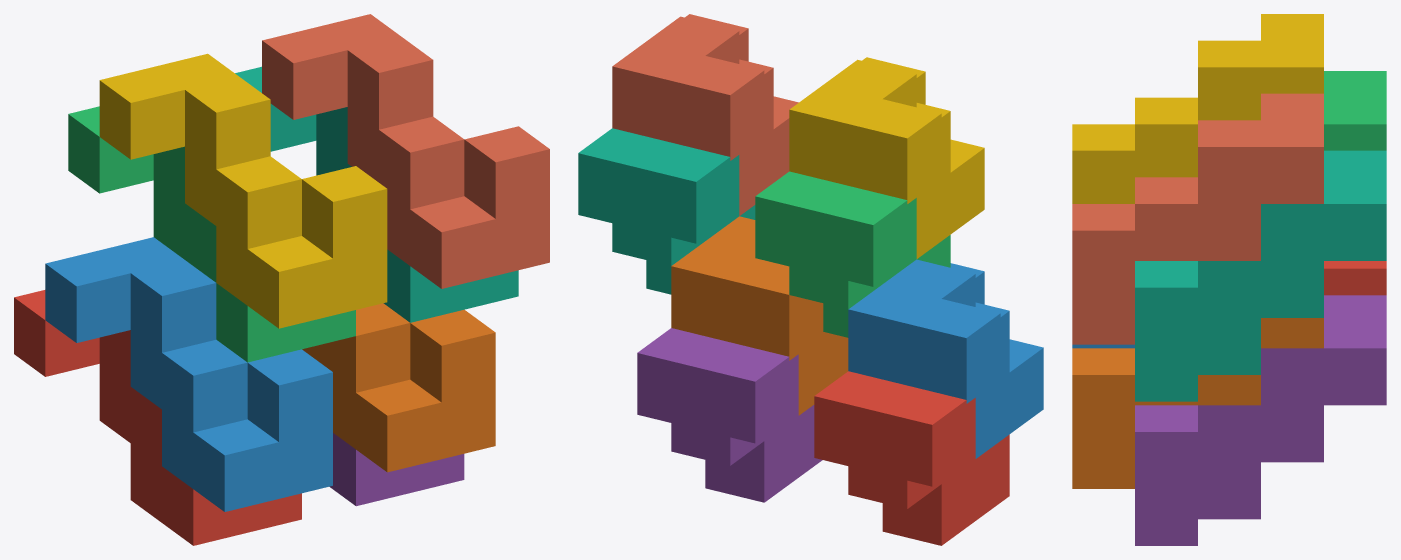
The model's file is tiling.obj.
3 views of the same model, side by side, from view 1: azimuth 30°, elevation 25°; view 2: azimuth 150°, elevation 25°; view 3: azimuth 270°, elevation 25° (orthographic). The views are drawn at different scales.
Visible parts, largest first — view 1: copy_1_domain_4, copy_1_domain_2, copy_1_domain_8, copy_1_domain_6, copy_1_domain_1, copy_1_domain_3, copy_1_domain_7, copy_1_domain_5; view 2: copy_1_domain_1, copy_1_domain_4, copy_1_domain_2, copy_1_domain_5, copy_1_domain_8, copy_1_domain_3, copy_1_domain_7, copy_1_domain_6; view 3: copy_1_domain_5, copy_1_domain_7, copy_1_domain_8, copy_1_domain_4, copy_1_domain_6, copy_1_domain_3, copy_1_domain_1.
Part boxes in pixels (<box>): copy_1_domain_4: <box>99,53,387,328</box>; copy_1_domain_2: <box>45,237,332,511</box>; copy_1_domain_8: <box>262,14,549,288</box>; copy_1_domain_6: <box>302,303,495,472</box>; copy_1_domain_1: <box>14,290,301,545</box>; copy_1_domain_3: <box>68,106,355,362</box>; copy_1_domain_7: <box>235,66,518,322</box>; copy_1_domain_5: <box>329,433,464,506</box>; copy_1_domain_1: <box>814,371,1009,545</box>; copy_1_domain_4: <box>789,57,984,258</box>; copy_1_domain_2: <box>848,259,1043,458</box>; copy_1_domain_5: <box>637,328,822,502</box>; copy_1_domain_8: <box>612,14,798,215</box>; copy_1_domain_3: <box>755,171,950,337</box>; copy_1_domain_7: <box>578,128,755,294</box>; copy_1_domain_6: <box>671,216,848,415</box>; copy_1_domain_5: <box>1135,295,1386,545</box>; copy_1_domain_7: <box>1135,150,1386,401</box>; copy_1_domain_8: <box>1072,93,1323,344</box>; copy_1_domain_4: <box>1072,14,1323,203</box>; copy_1_domain_6: <box>1072,318,1323,488</box>; copy_1_domain_3: <box>1324,71,1386,150</box>; copy_1_domain_1: <box>1324,261,1386,295</box>.
Bounding box in the file's own units: 7 × 7 × 5.
